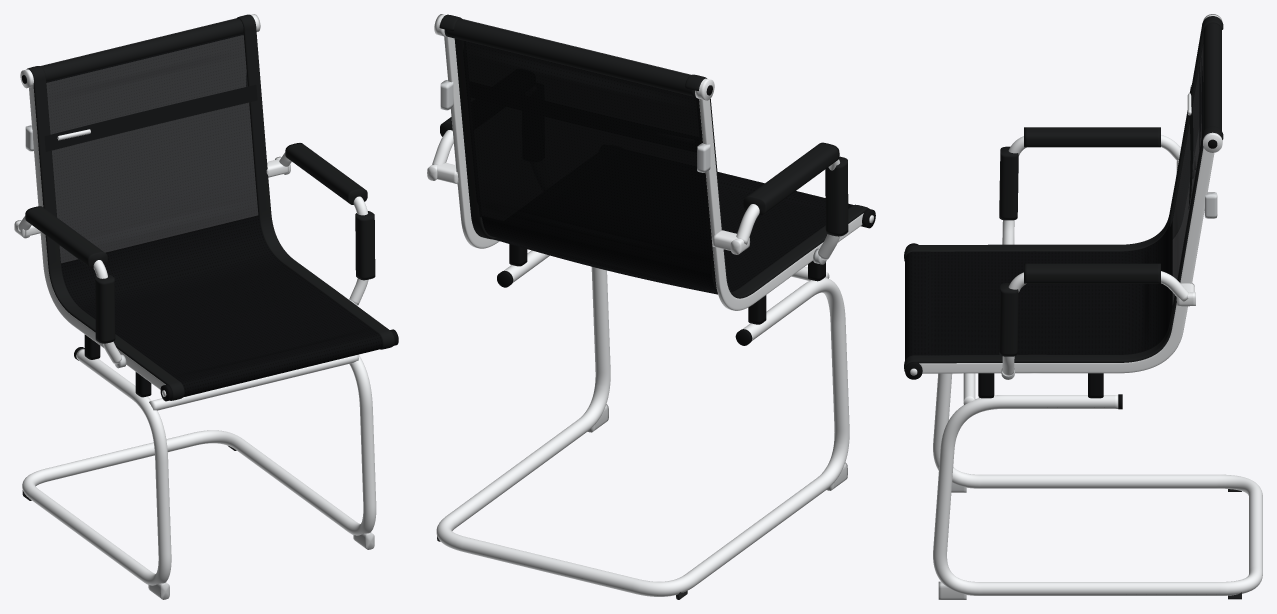
File: eames-32876.glb
3 renders of one model, left to right at view 1: azimuth 30°, elevation 25°; view 2: azimuth 150°, elevation 25°; view 3: azimuth 270°, elevation 25°, orthographic. The views are drawn at different scales.
Visible parts, largest first — view 1: eames-32876-photo-rebuild-2026-10-05; view 2: eames-32876-photo-rebuild-2026-10-05; view 3: eames-32876-photo-rebuild-2026-10-05.
Boxes of the visible parts, <box> form: eames-32876-photo-rebuild-2026-10-05: <box>14,14,398,599</box>; eames-32876-photo-rebuild-2026-10-05: <box>427,14,875,599</box>; eames-32876-photo-rebuild-2026-10-05: <box>904,14,1262,599</box>.
Bounding box in the file's own units: 0.615 × 0.9263 × 0.6388.
Materials: 9 (2 with a texture image).
